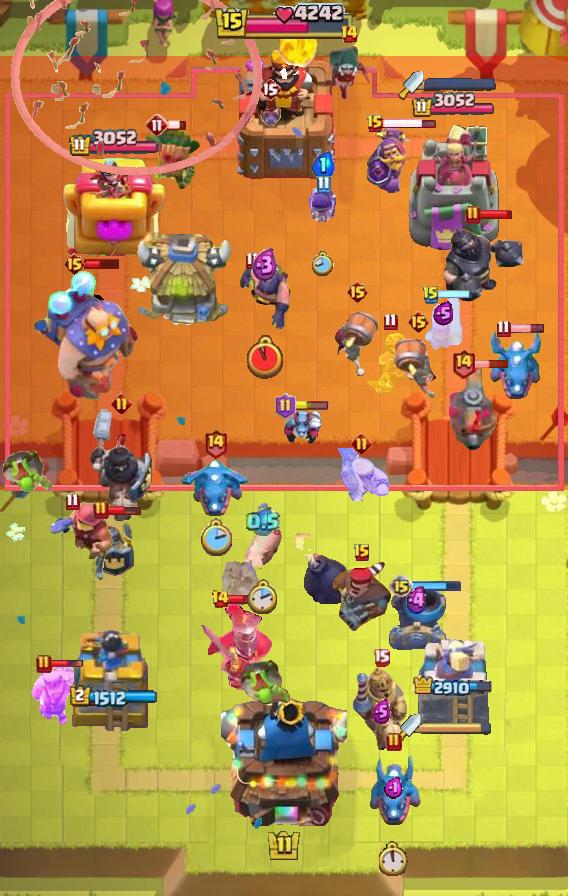bandit: (327, 44, 371, 104)
bar: (382, 117, 437, 130), (410, 580, 462, 592), (84, 257, 121, 270), (228, 593, 263, 605), (508, 323, 545, 334), (106, 505, 142, 516), (438, 289, 473, 300), (479, 209, 513, 220), (293, 401, 329, 411), (474, 359, 509, 369), (50, 659, 84, 669), (167, 119, 187, 131)
bar-level: (203, 428, 228, 459), (451, 348, 476, 379), (389, 574, 413, 598), (145, 113, 169, 137), (407, 310, 430, 334), (346, 280, 369, 304), (63, 252, 86, 276), (275, 393, 296, 419), (259, 77, 281, 101), (351, 433, 372, 454), (111, 393, 132, 414), (211, 589, 230, 609), (340, 24, 359, 44), (353, 543, 371, 563), (422, 285, 440, 305), (366, 114, 384, 134), (373, 648, 390, 667), (386, 732, 402, 752), (36, 654, 52, 674), (93, 500, 109, 520), (465, 205, 481, 225), (65, 492, 80, 511), (496, 319, 511, 338), (383, 312, 398, 331), (245, 251, 260, 270), (316, 175, 331, 194)
barbarian-evolution: (30, 661, 84, 727), (333, 448, 389, 501)
bat: (257, 101, 283, 131)
bomb: (292, 533, 352, 605)
clock: (247, 335, 283, 379), (199, 518, 232, 556), (248, 579, 279, 616), (379, 841, 409, 876), (312, 251, 334, 277)
dagger-duchess-tower: (406, 122, 500, 256), (416, 637, 490, 731)
dagger-duchess-tower-bar: (421, 721, 493, 735), (424, 77, 496, 91)
dart-goblin: (144, 126, 202, 194)
dirt: (222, 557, 260, 607)
electro-dragon: (179, 456, 251, 518), (366, 753, 422, 827), (489, 329, 543, 403)
elixir: (246, 507, 280, 537), (252, 248, 278, 283), (404, 586, 431, 615), (311, 151, 335, 179), (433, 301, 454, 326), (372, 699, 391, 724), (384, 777, 404, 799)
executioner: (238, 262, 292, 332)
firecracker: (422, 294, 464, 352)
goblin-ball: (240, 659, 294, 707), (0, 448, 54, 496)
guard: (94, 515, 136, 579)
hog: (242, 523, 284, 569)
hunter: (331, 559, 393, 631)
king-tower: (221, 690, 347, 826), (229, 43, 339, 181)
king-tower-bar: (213, 3, 355, 43)
knight-evolution: (365, 127, 409, 195)
little-prince: (366, 331, 415, 397)
minion: (276, 406, 322, 446)
mortar: (387, 586, 447, 650)
queen-tower: (64, 621, 164, 731), (62, 156, 166, 256)
skeleton-evolution: (308, 188, 339, 228)
tower-bar: (68, 129, 160, 158), (411, 92, 496, 119), (70, 685, 159, 708), (413, 675, 494, 699)
wall-breaker: (333, 309, 381, 379), (393, 336, 443, 400)
